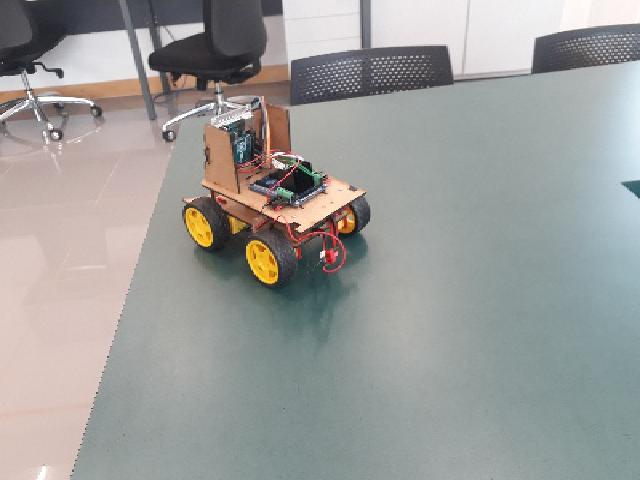Robot: (179, 97, 371, 289)
